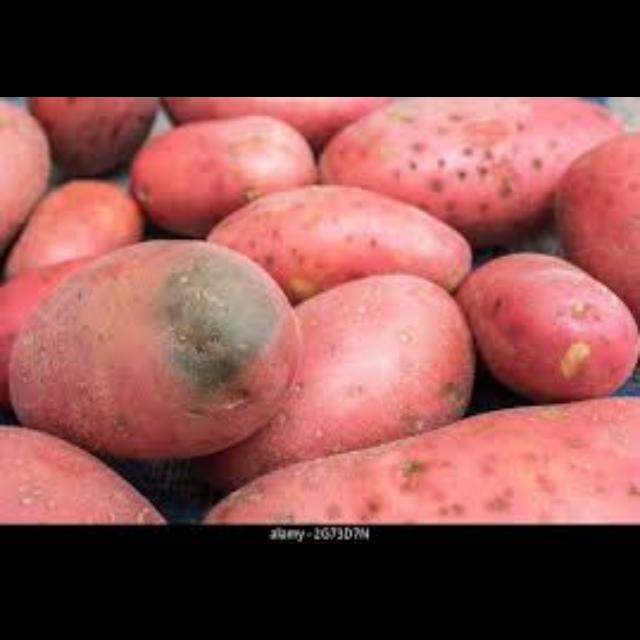Defected potato: (15, 243, 301, 467), (180, 393, 640, 522), (216, 268, 478, 490), (310, 96, 640, 242), (206, 182, 474, 334), (446, 237, 640, 407), (121, 118, 317, 232), (8, 172, 148, 310), (0, 417, 172, 527), (542, 131, 640, 321)
